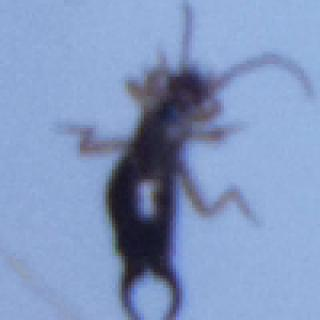earwig: (50, 0, 314, 320)
